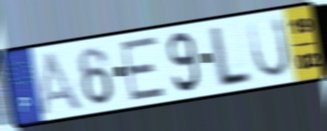6: (76, 45, 115, 107)
9: (167, 30, 202, 94)
A: (35, 48, 87, 116)
E: (118, 33, 168, 103)
L: (209, 22, 253, 90)
U: (246, 14, 292, 81)
